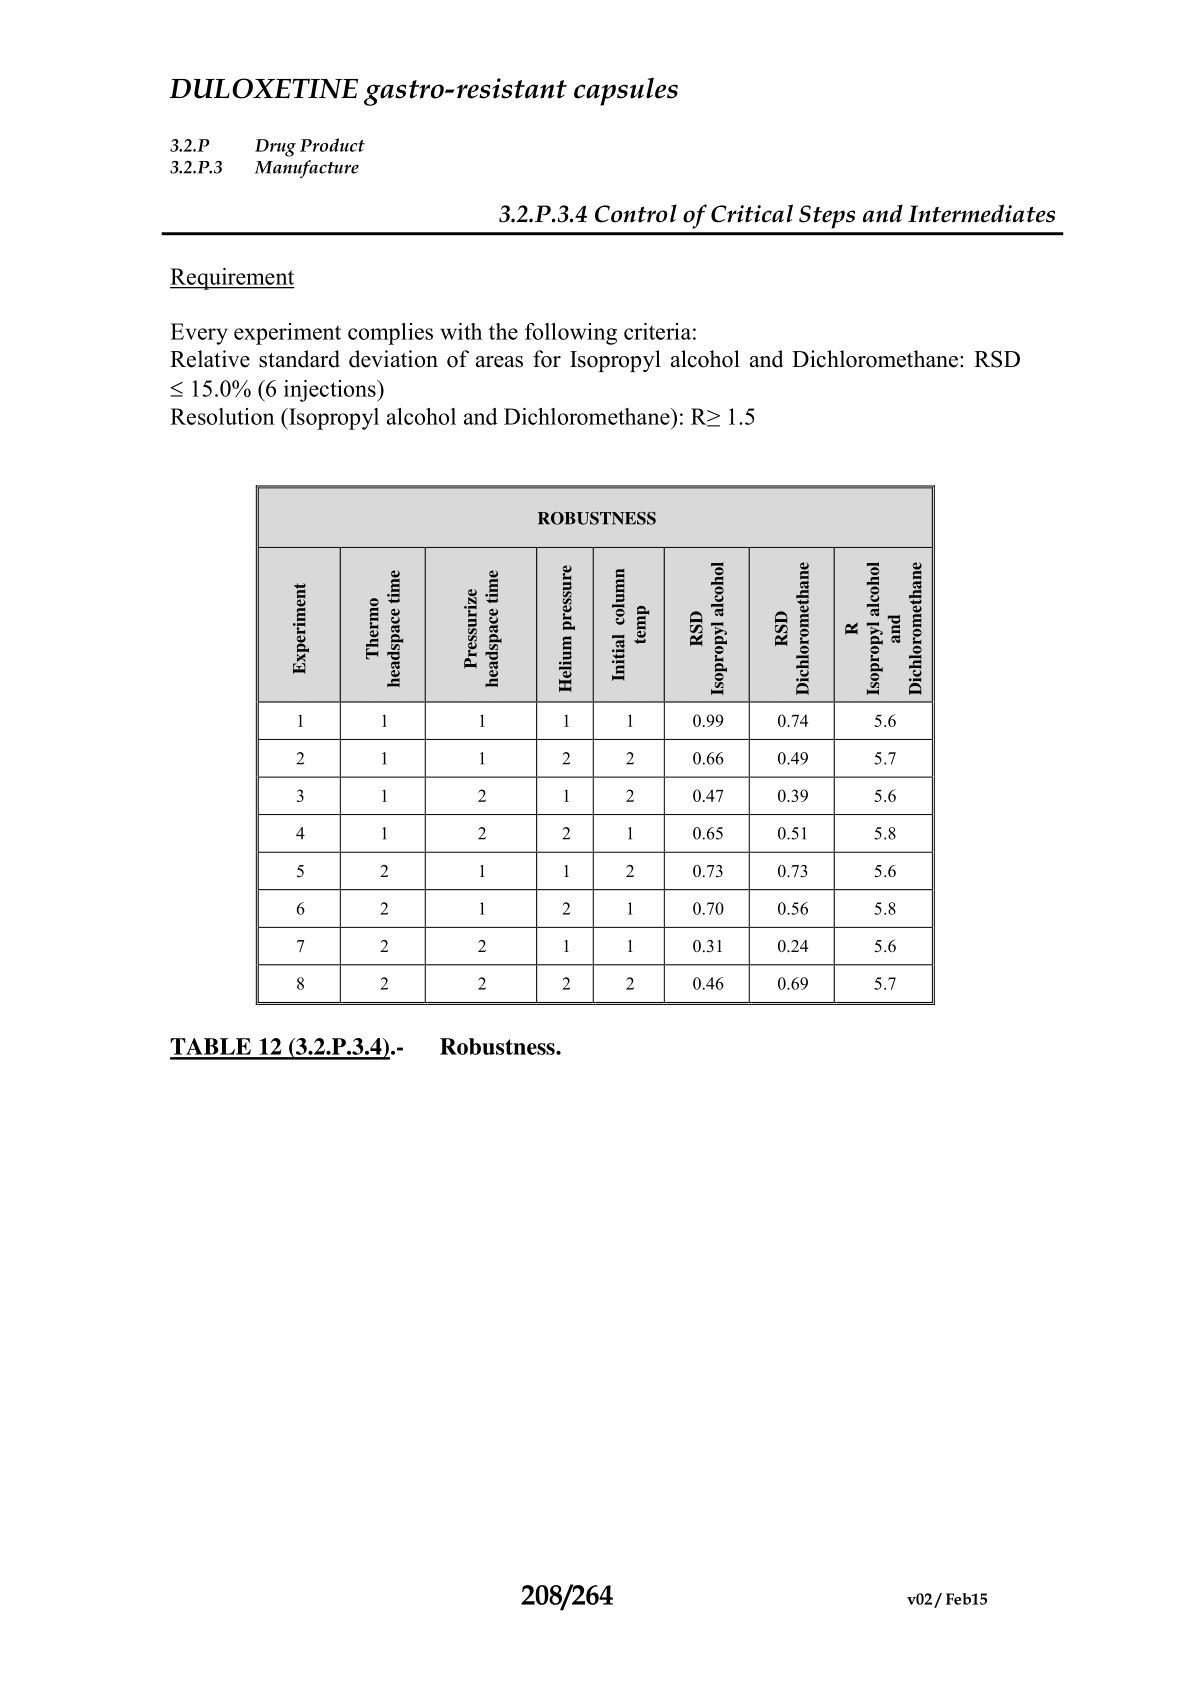merged_cells: (254, 483, 934, 1006)
